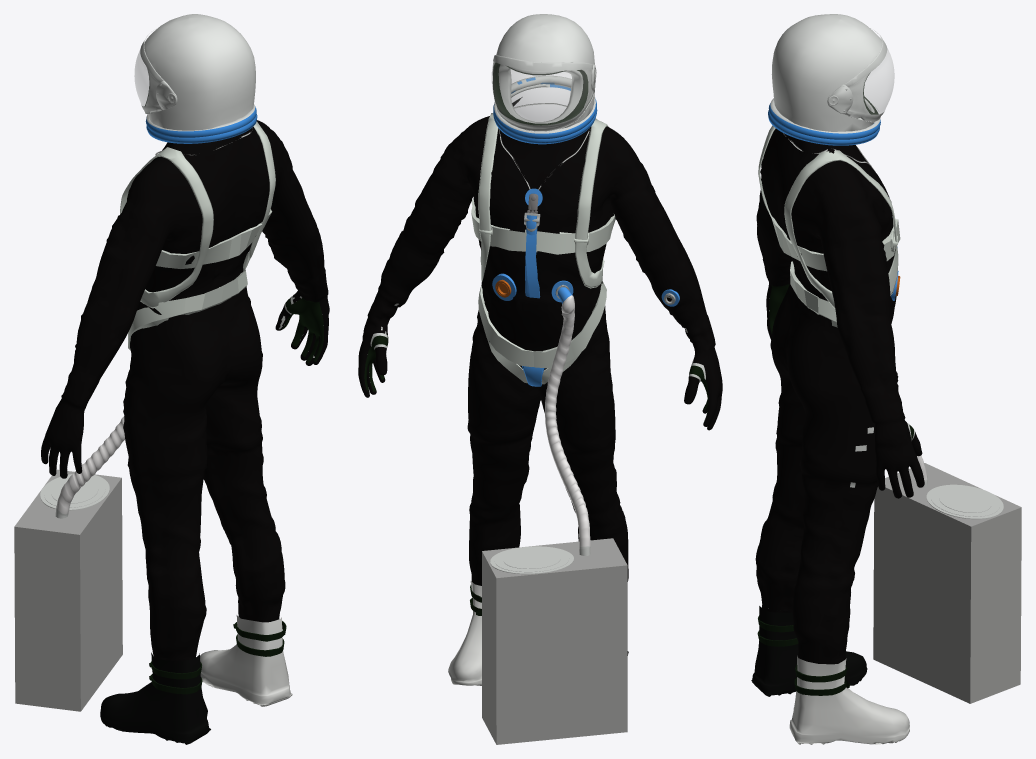
Rendered from gemini.glb.
3 views of the same model, side by side, from view 1: azimuth 30°, elevation 25°; view 2: azimuth 150°, elevation 25°; view 3: azimuth 270°, elevation 25° (orthographic). The views are drawn at different scales.
Parts seen in each view (by area): view 1: GeminiSuit:polySurface1; view 2: GeminiSuit:polySurface1; view 3: GeminiSuit:polySurface1.
Part boxes in pixels (x1,y1,x2,y2): GeminiSuit:polySurface1: (14, 14, 329, 744); GeminiSuit:polySurface1: (358, 14, 722, 744); GeminiSuit:polySurface1: (751, 14, 1021, 744).
Bounding box in the file's own units: 0.995 × 2 × 0.7096.
6 materials, 6 textured.
